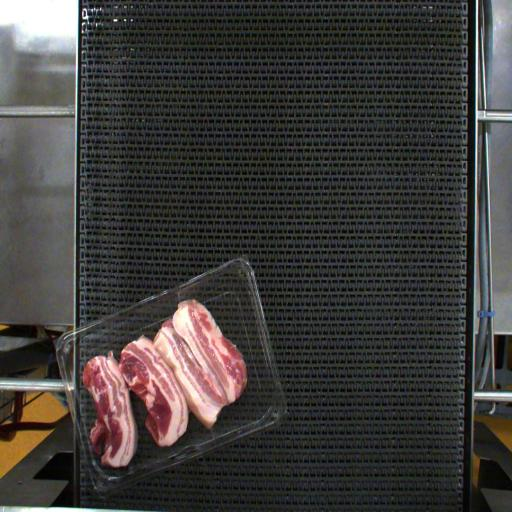loose-meat: (84, 362, 136, 480)
